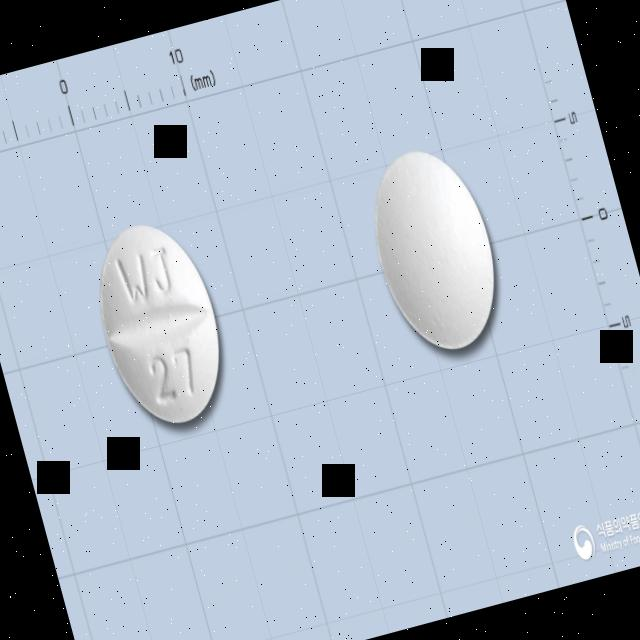Megarokshin: (80, 212, 240, 438)
